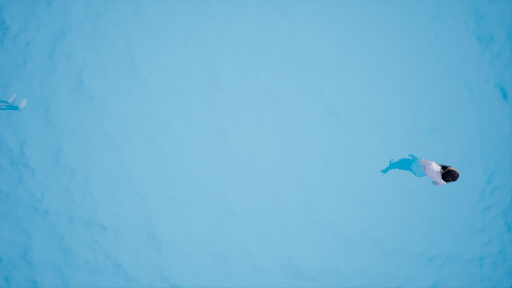person: (376, 149, 464, 195)
